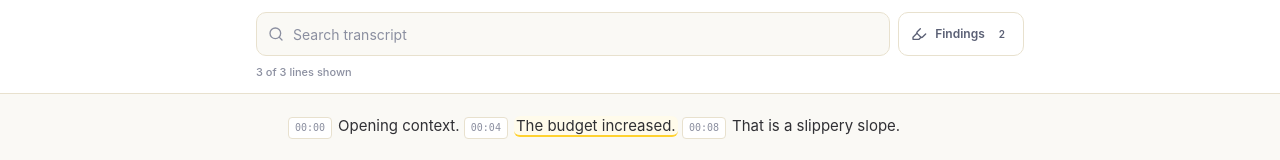
Test: aria-live regions › findings filter keeps claim and marker transcript lines
Click the button with test id "transcript-findings-filter" at (961, 34), box [898,12,1024,56]
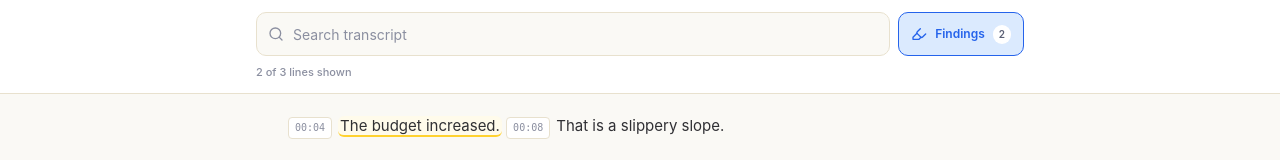
Expected: the text "The budget increased." is shown, [338,116,502,136]
Expected: the text "Opening context." is gone
Expected: the message with test id "transcript-filter-summary" reads "2 of 3 lines shown", [256,65,352,79]
